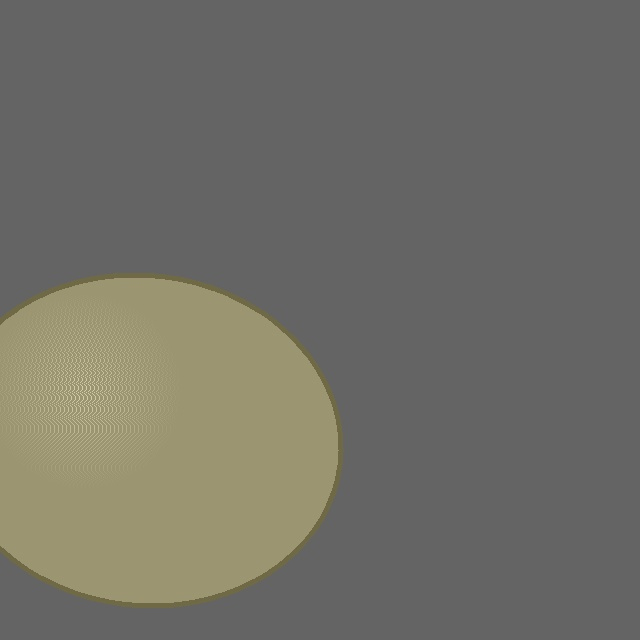lens: (0, 276, 340, 604)
